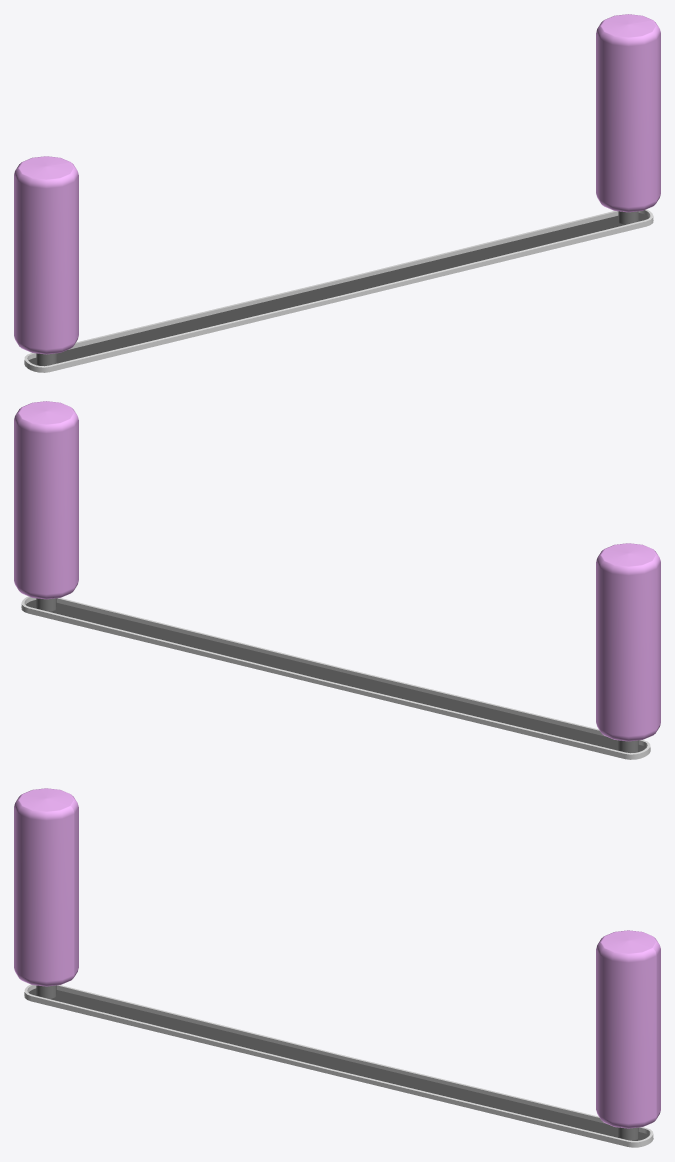
The model's file is Obstacle_49.fbx.
3 views of the same model, one above another, from view 1: azimuth 30°, elevation 25°; view 2: azimuth 150°, elevation 25°; view 3: azimuth 330°, elevation 25° (orthographic).
Parts seen in each view (by area): view 1: De, Quay_1, Quay_2; view 2: De, Quay_1, Quay_2; view 3: De, Quay_1, Quay_2.
Boxes of the visible parts, box(x1,y1,x2,y2) form: De: box(24, 209, 653, 372); Quay_1: box(596, 14, 660, 224); Quay_2: box(14, 156, 78, 366); De: box(21, 596, 650, 759); Quay_1: box(14, 401, 78, 611); Quay_2: box(596, 543, 660, 753); De: box(24, 984, 653, 1147); Quay_1: box(596, 930, 660, 1140); Quay_2: box(14, 788, 78, 998).
Bounding box in the file's own units: 10.17 × 3 × 0.8945.
